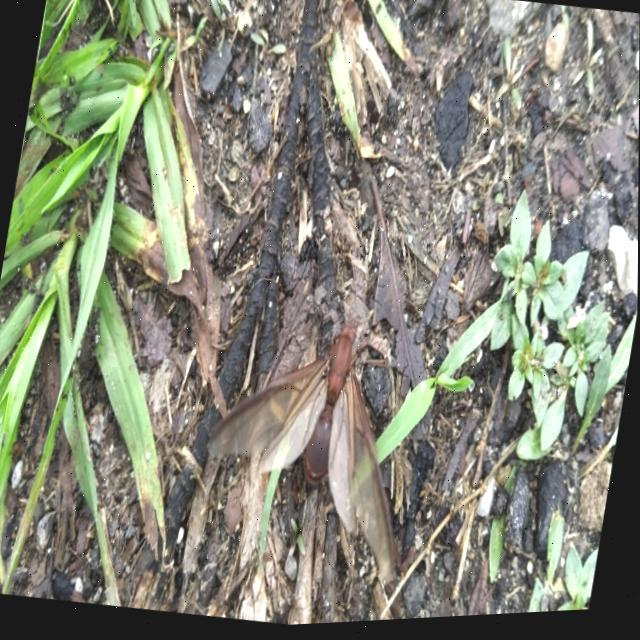Alive-Female-Alate: (190, 276, 441, 596)
